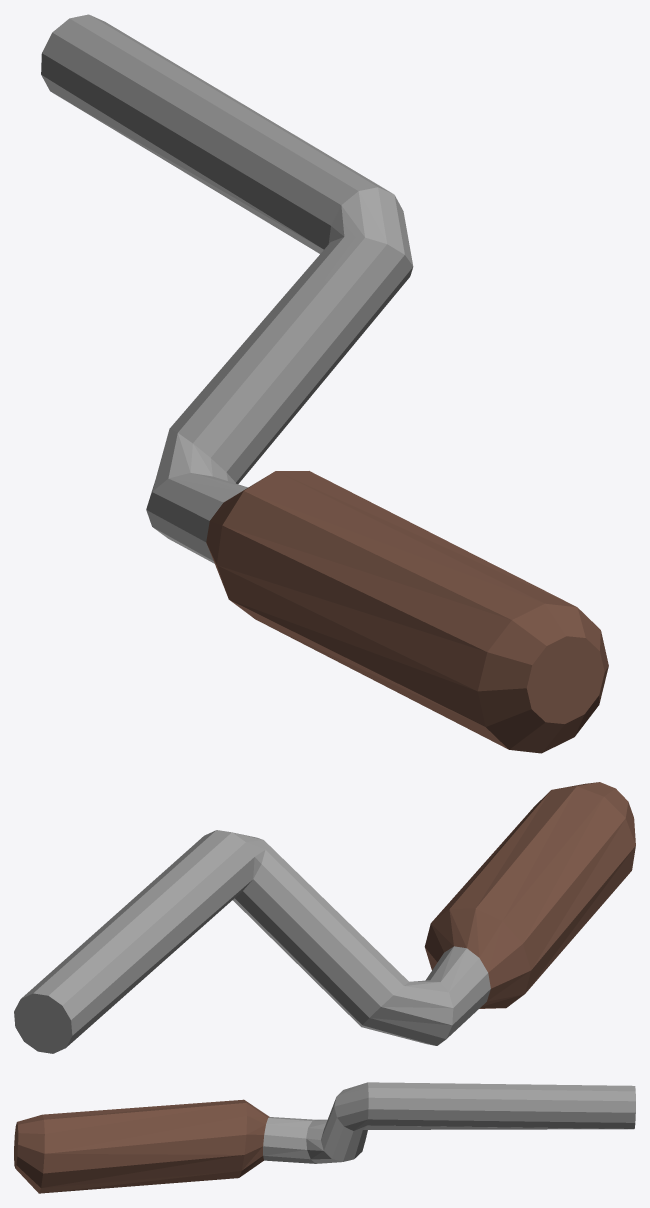
File: Gr_handle.fbx
The picture shows the model from 3 angles, top to bottom: view 1: azimuth 30°, elevation 25°; view 2: azimuth 150°, elevation 25°; view 3: azimuth 270°, elevation 25°; orthographic projection. The views are drawn at different scales.
Visible parts, largest first — view 1: group225046476.002; view 2: group225046476.002; view 3: group225046476.002.
Boxes of the visible parts, x1,y1,x2,y2 form: group225046476.002: [41, 14, 608, 753]; group225046476.002: [14, 782, 635, 1053]; group225046476.002: [14, 1082, 635, 1193].
Size of the model in its own units: 10.25 by 8.8 by 34.89.
